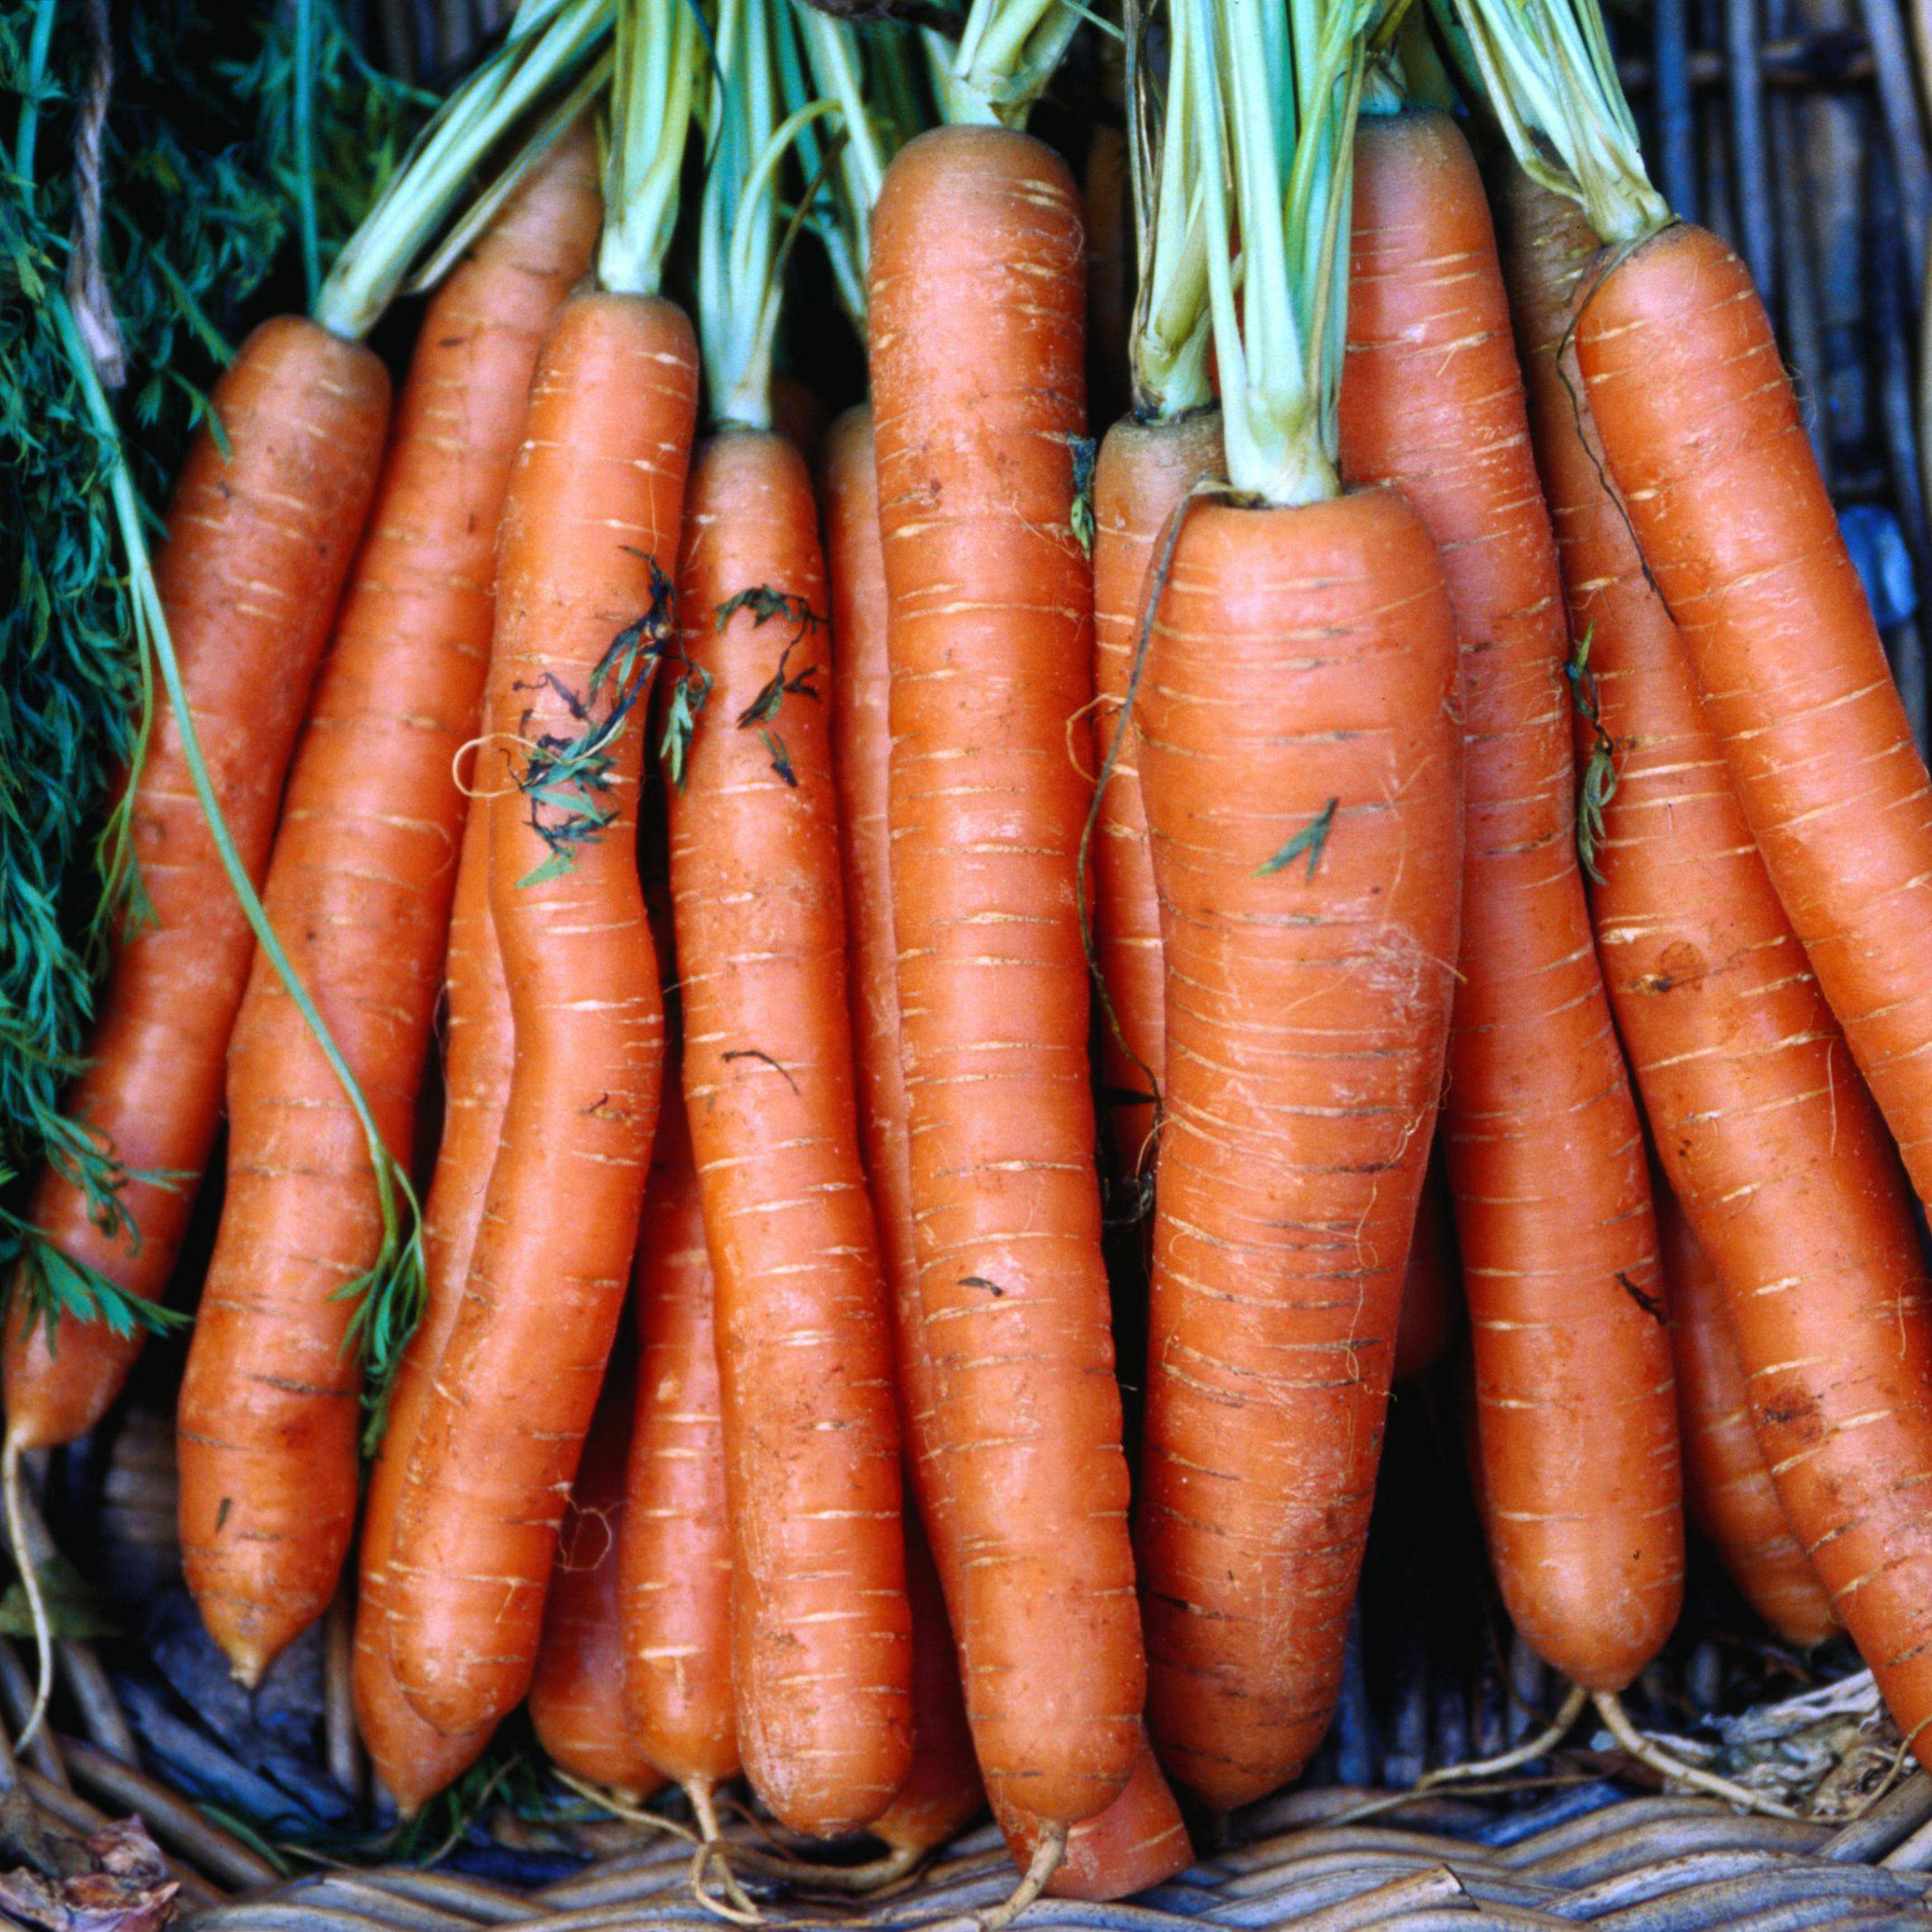carrot: (96, 81, 1932, 1897), (12, 21, 816, 1900), (188, 248, 741, 1861), (1483, 18, 1932, 1861), (824, 65, 1155, 1923), (1162, 9, 1412, 1790)
